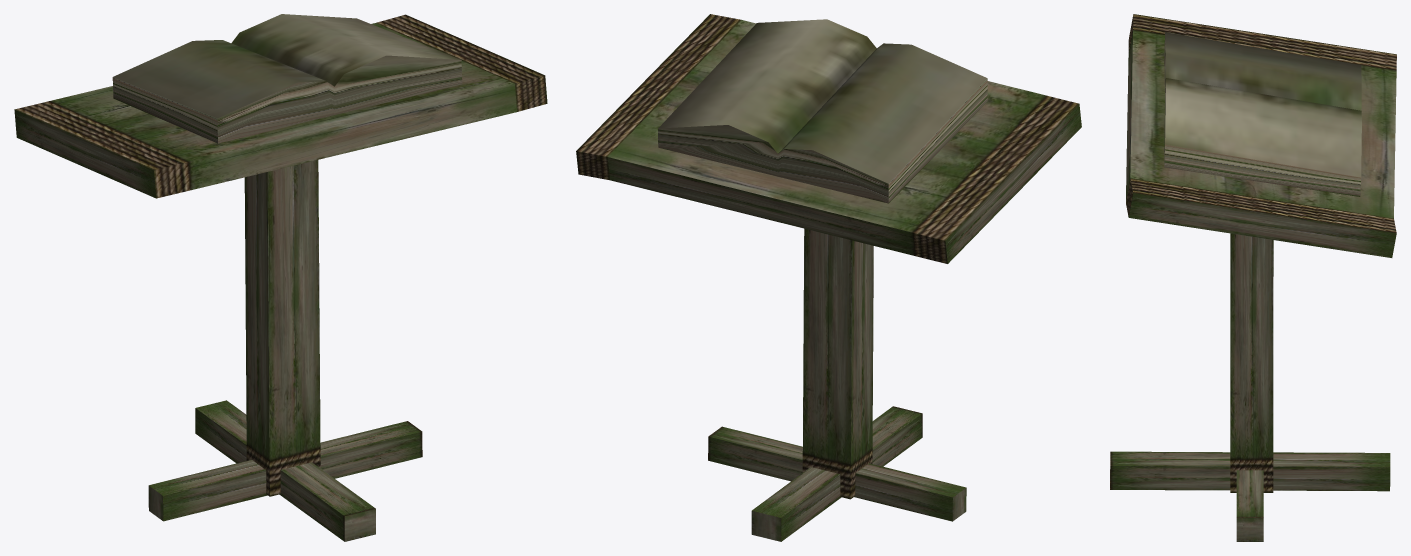
The model's file is ship_valet.fbx.
The picture shows the model from 3 angles, left to right: view 1: azimuth 30°, elevation 25°; view 2: azimuth 150°, elevation 25°; view 3: azimuth 270°, elevation 25°; orthographic projection. The views are drawn at different scales.
Parts seen in each view (by area): view 1: pCube20, pCube21, nurbsToPoly16, polySurface7, polySurface3, polySurface4; view 2: pCube20, nurbsToPoly16, pCube21, polySurface3, polySurface6, polySurface4; view 3: pCube20, nurbsToPoly16, pCube21, polySurface4, polySurface3.
Boxes of the visible parts, bbox=[...] form: pCube20: bbox=[14, 14, 547, 198]; pCube21: bbox=[244, 160, 320, 496]; nurbsToPoly16: bbox=[112, 14, 460, 143]; polySurface7: bbox=[217, 55, 462, 143]; polySurface3: bbox=[148, 421, 422, 521]; polySurface4: bbox=[195, 400, 375, 541]; pCube20: bbox=[576, 14, 1081, 263]; nurbsToPoly16: bbox=[658, 19, 987, 203]; pCube21: bbox=[802, 228, 873, 499]; polySurface3: bbox=[708, 426, 966, 521]; polySurface6: bbox=[658, 125, 888, 203]; polySurface4: bbox=[751, 406, 922, 541]; pCube20: bbox=[1126, 14, 1396, 257]; nurbsToPoly16: bbox=[1164, 32, 1361, 196]; pCube21: bbox=[1230, 233, 1273, 492]; polySurface4: bbox=[1110, 451, 1390, 491]; polySurface3: bbox=[1236, 470, 1263, 541].
Size of the model in its own units: 400 by 436 by 270.
1 material, 1 textured.
